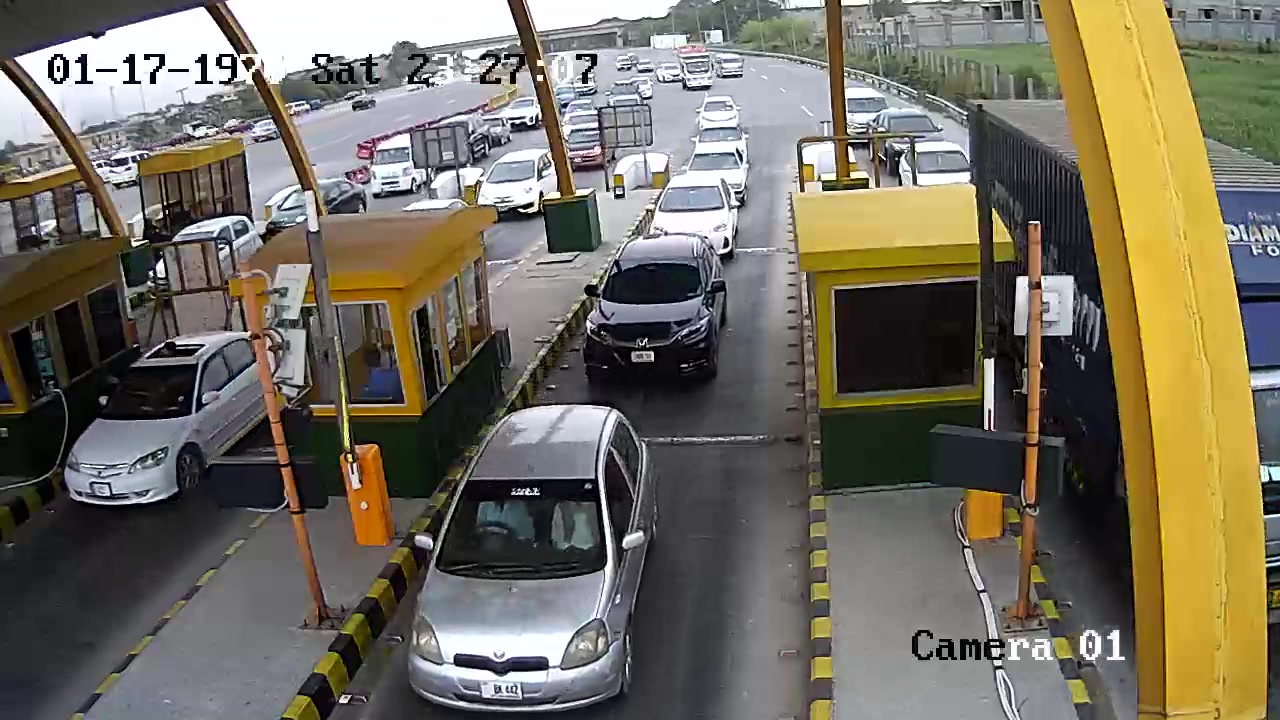F1: (388, 395, 685, 712), (577, 235, 738, 390)
